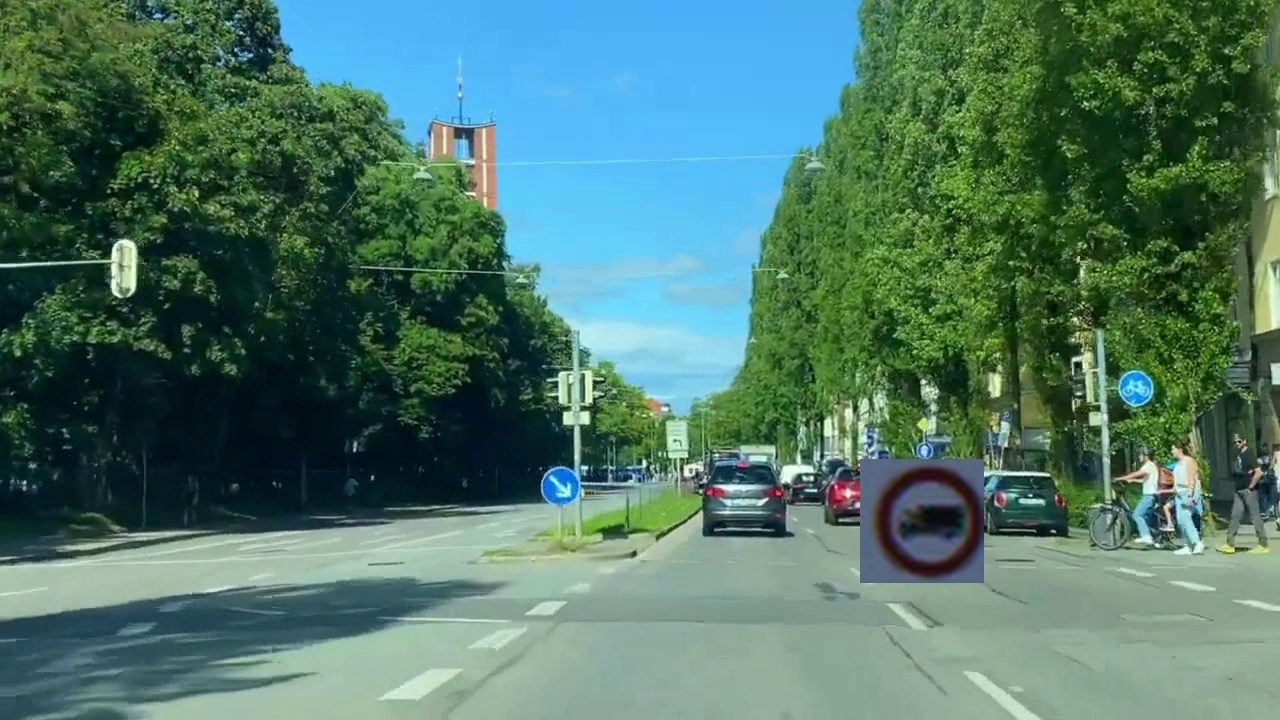Veh >3.5t prohib: (860, 459, 984, 583)
